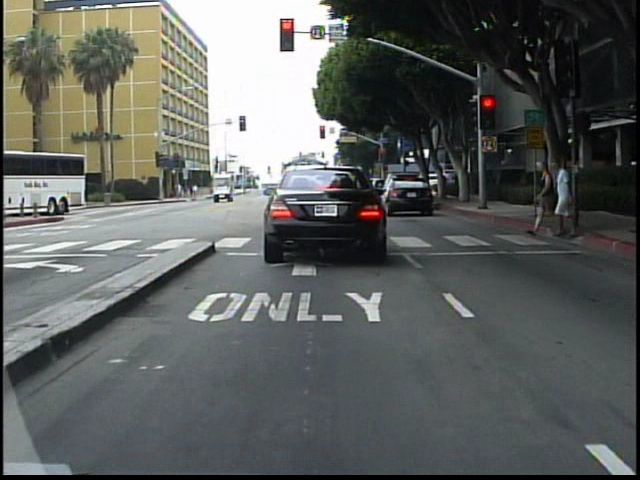person: (553, 159, 578, 240), (535, 159, 556, 240)
